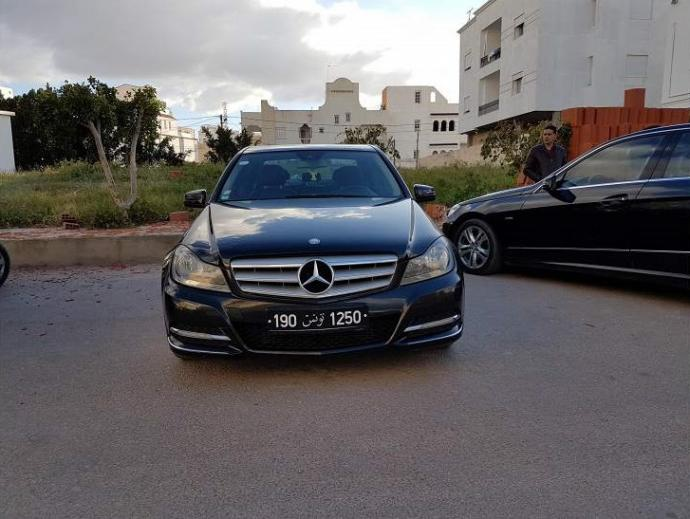LP: (264, 304, 369, 331)
